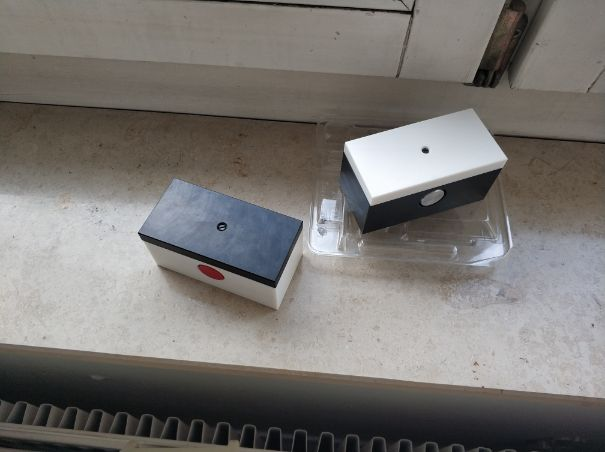black+white+red: (135, 175, 308, 314)
white+black+silver: (338, 105, 510, 235)
